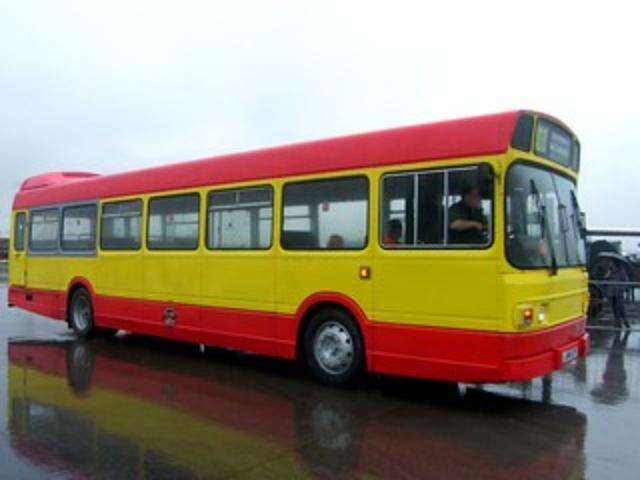bus: (6, 108, 590, 384)
